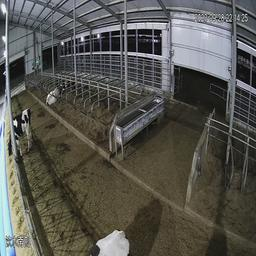cow: (81, 213, 130, 255), (5, 107, 34, 169), (43, 79, 66, 105)
